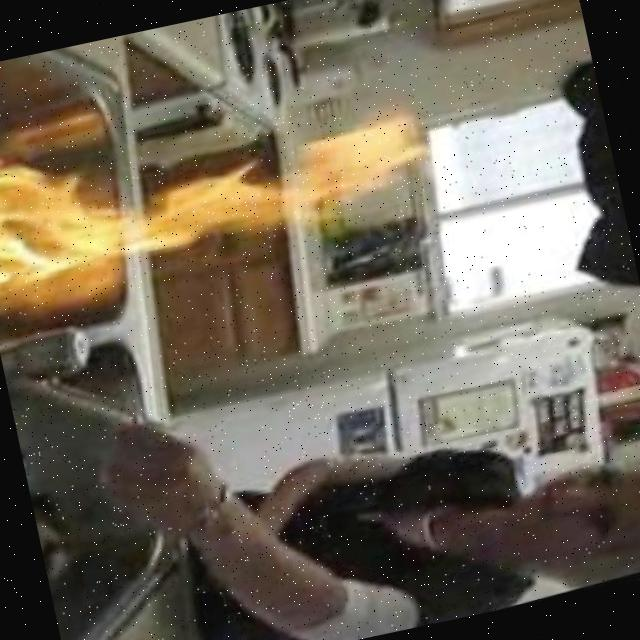fire: (0, 51, 452, 337)
